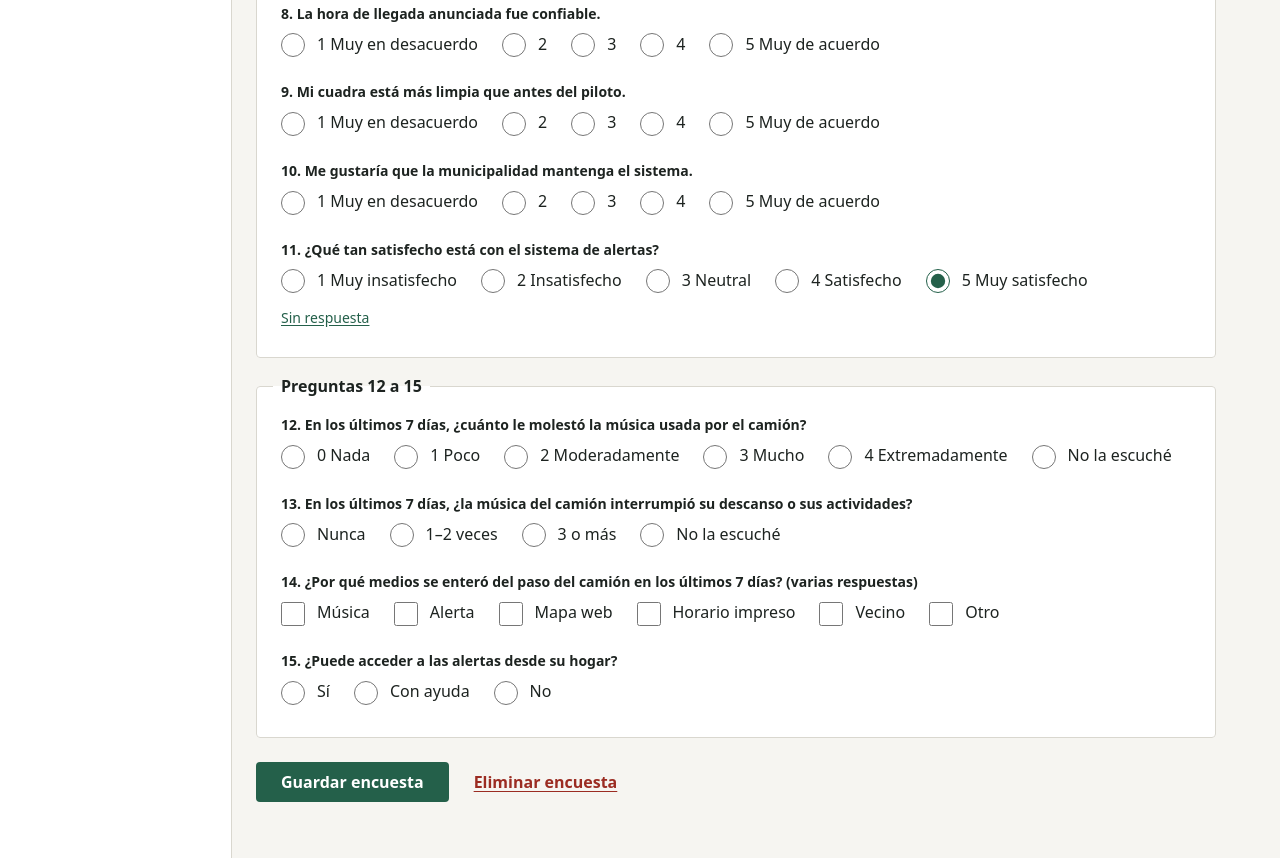
Test: SurveyEditorPage › shows the inconsistencies the API finds next to their questions
(page scrolled)
Click the button "Guardar encuesta" at (352, 782), box [256,762,449,802]
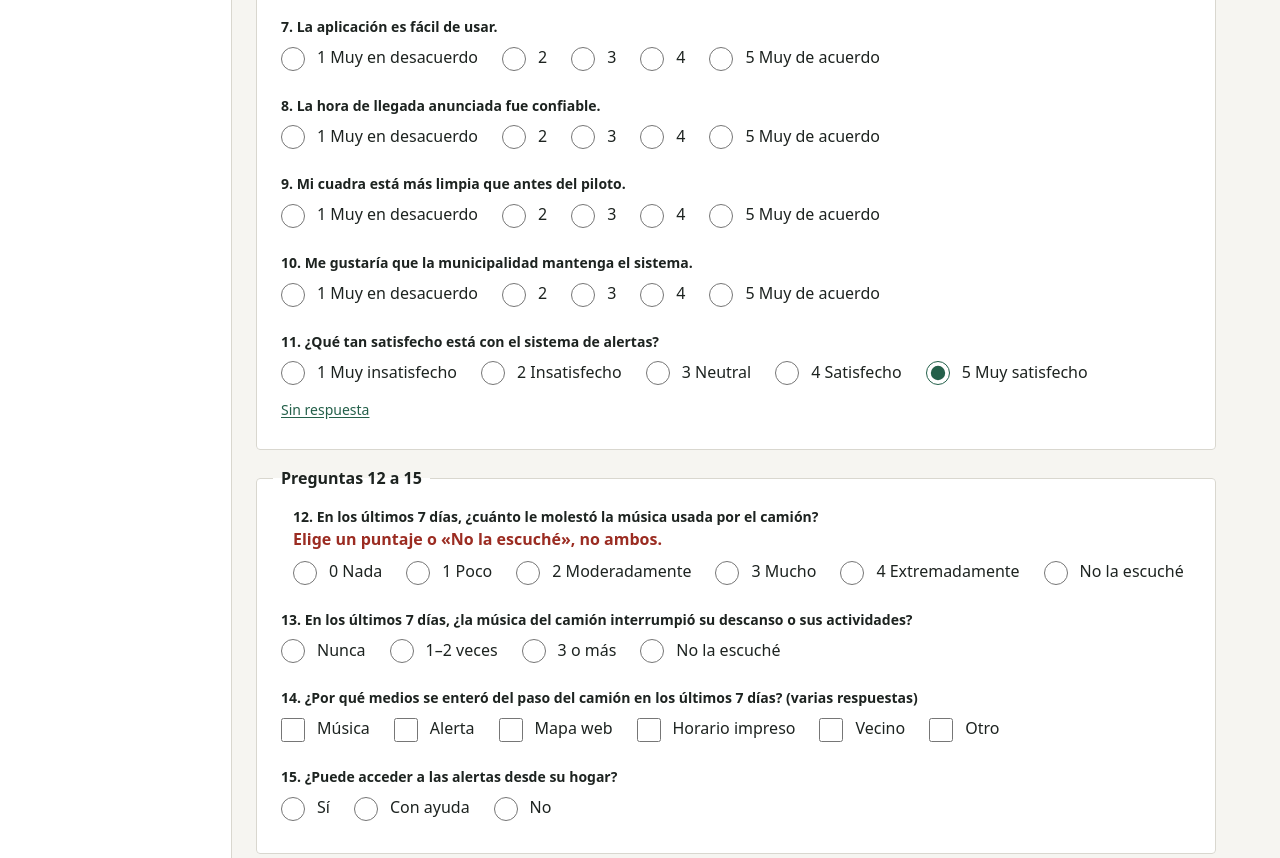
Check: the text "Elige un puntaje o «No la escuché», no ambos." is shown, box [293,528,662,550]
